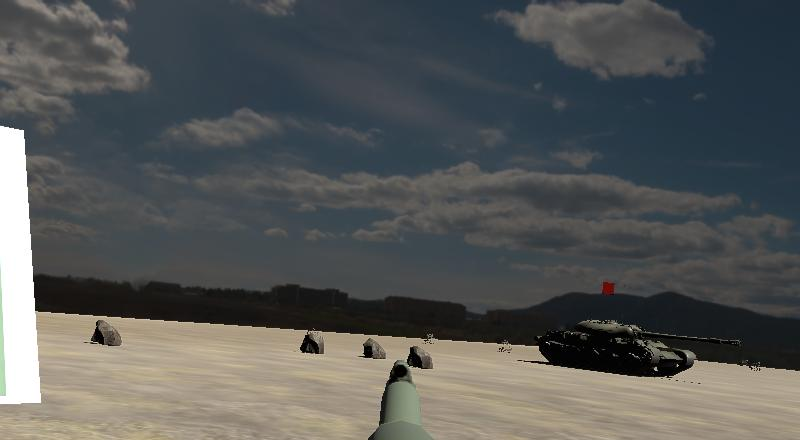Tank: (532, 313, 744, 381)
